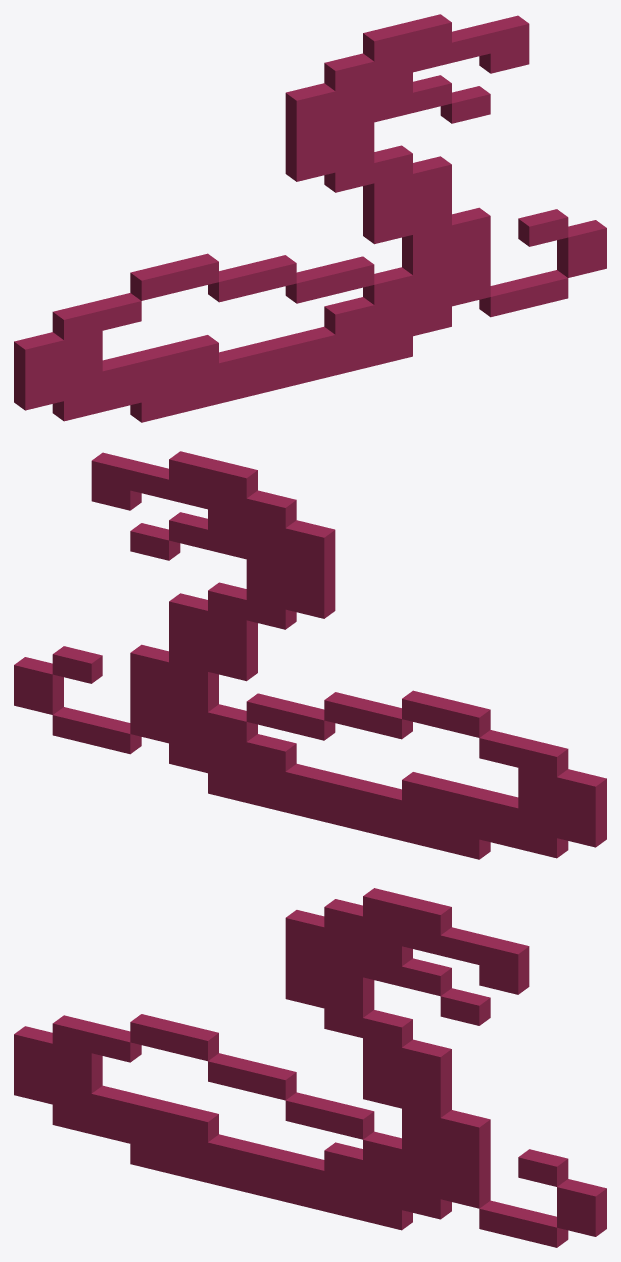
File: Snake-Purple.vox.obj
The picture shows the model from 3 angles, top to bottom: view 1: azimuth 30°, elevation 25°; view 2: azimuth 150°, elevation 25°; view 3: azimuth 330°, elevation 25°; orthographic projection.
Size of the model in its own units: 3 by 1.6 by 0.1.
Materials: 1 (1 with a texture image).
